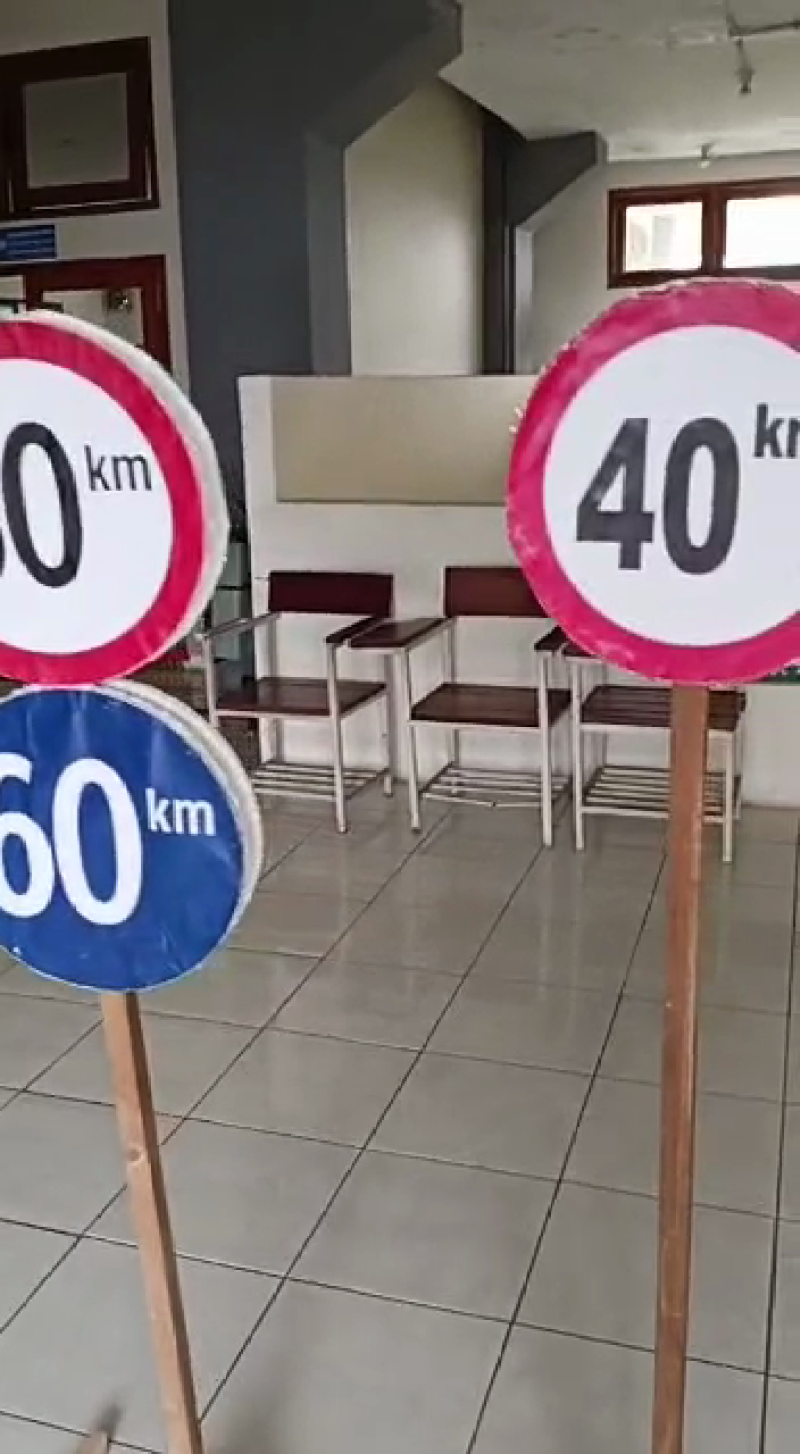batas maksimal 40kmperjam: (475, 248, 800, 709)
